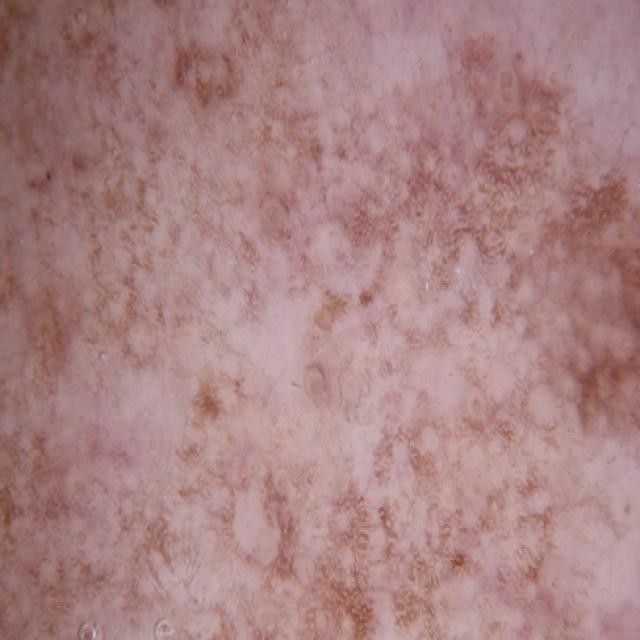Keratosis: (0, 87, 628, 640)
